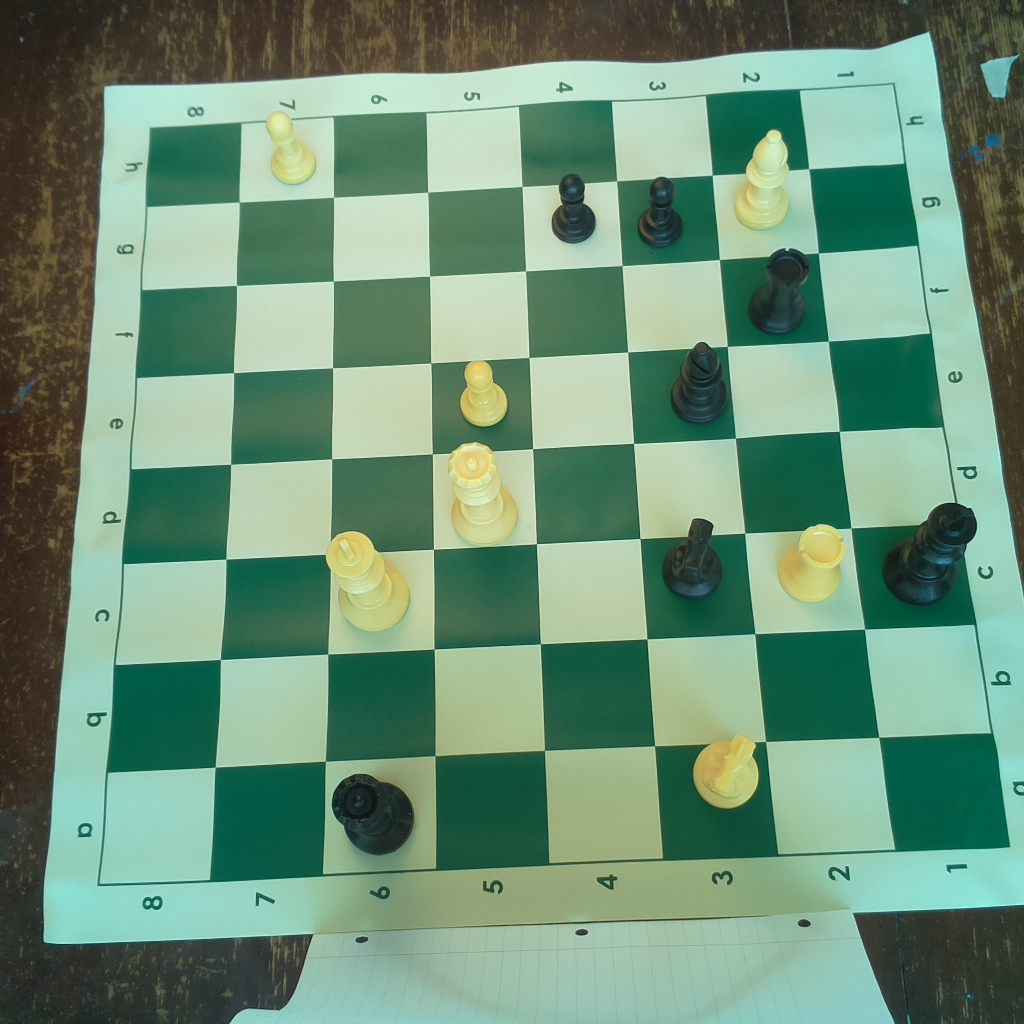black_bishop: (668, 338, 729, 428)
black_king: (880, 493, 980, 613)
black_knight: (657, 515, 728, 600)
black_pawn: (633, 174, 690, 252), (549, 173, 599, 244)
black_queen: (329, 765, 419, 858)
black_rook: (746, 244, 815, 336)
file_a: (98, 731, 1008, 883)
file_b: (107, 622, 992, 775)
file_c: (112, 525, 979, 665)
file_d: (124, 428, 967, 566)
file_e: (129, 332, 942, 471)
file_f: (136, 244, 933, 379)
file_g: (144, 166, 919, 290)
file_h: (145, 84, 908, 210)
outline: (97, 82, 1015, 884)
rank_1: (799, 82, 1011, 853)
rank_2: (707, 90, 894, 854)
rank_3: (612, 96, 777, 857)
rank_4: (519, 100, 664, 865)
rank_5: (424, 105, 551, 875)
rank_6: (323, 112, 438, 873)
rank_7: (210, 118, 333, 886)
rank_8: (97, 125, 241, 883)
white_bishop: (733, 125, 796, 231)
white_king: (321, 526, 414, 628)
white_knight: (690, 731, 762, 810)
white_pawn: (262, 112, 323, 187), (457, 357, 511, 425)
white_queen: (441, 438, 524, 545)
white_rook: (777, 518, 847, 604)
